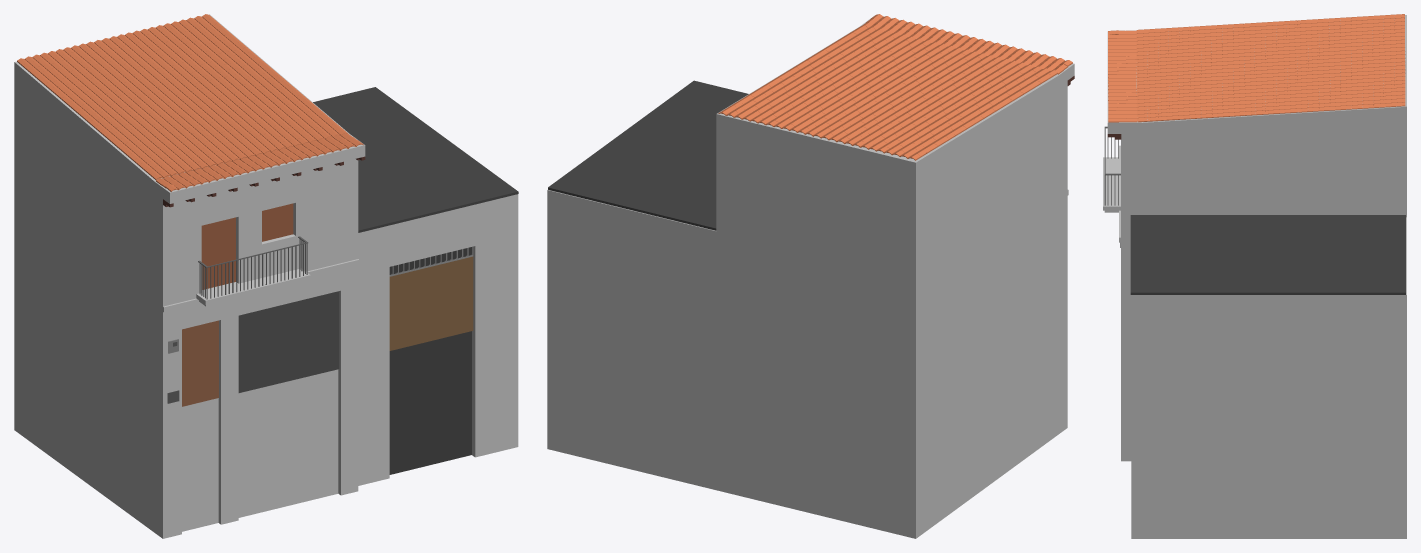
Rendered from 2_Casa_Benarraba_Daniel_Bautista.fbx.
3 views of the same model, side by side, from view 1: azimuth 30°, elevation 25°; view 2: azimuth 150°, elevation 25°; view 3: azimuth 270°, elevation 25° (orthographic). The views are drawn at different scales.
Visible parts, largest first — view 1: Fachada.001, Tejas_2, Techo_2, Garaje_2, Garaje, Puerta, Rejas.001, Terraza.001; view 2: Fachada.001, Tejas_2, Techo_2; view 3: Fachada.001, Tejas_2, Techo_2, Terraza.001, Rejas.001.
Boxes of the visible parts, left/top/right/bottom form: Fachada.001: left=14, top=14, right=518, bottom=538; Tejas_2: left=17, top=14, right=363, bottom=191; Techo_2: left=313, top=87, right=518, bottom=232; Garaje_2: left=238, top=291, right=339, bottom=392; Garaje: left=389, top=247, right=473, bottom=350; Puerta: left=182, top=320, right=218, bottom=406; Rejas.001: left=198, top=236, right=308, bottom=299; Terraza.001: left=196, top=268, right=310, bottom=306; Fachada.001: left=547, top=15, right=1074, bottom=538; Tejas_2: left=718, top=14, right=1072, bottom=160; Techo_2: left=548, top=80, right=748, bottom=230; Fachada.001: left=1107, top=15, right=1406, bottom=538; Tejas_2: left=1108, top=14, right=1405, bottom=122; Techo_2: left=1130, top=215, right=1405, bottom=294; Terraza.001: left=1103, top=157, right=1120, bottom=212; Rejas.001: left=1104, top=126, right=1120, bottom=205.
Size of the model in its own units: 1060 by 1043 by 803.
